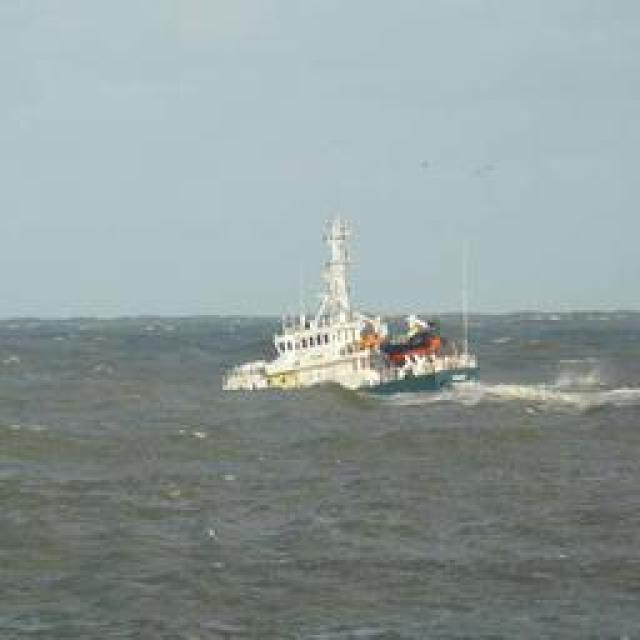CIV_Ship: (232, 214, 476, 402)
